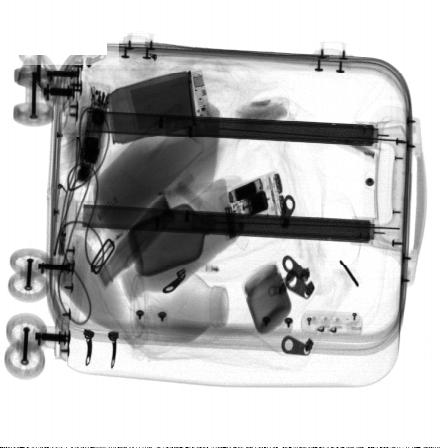Powerbank: (127, 68, 211, 139)
